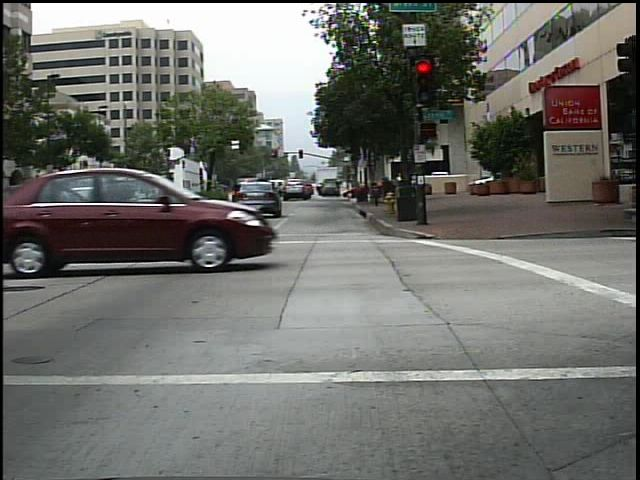car: (1, 168, 275, 271), (237, 178, 282, 215), (315, 176, 344, 198), (281, 179, 306, 202)
